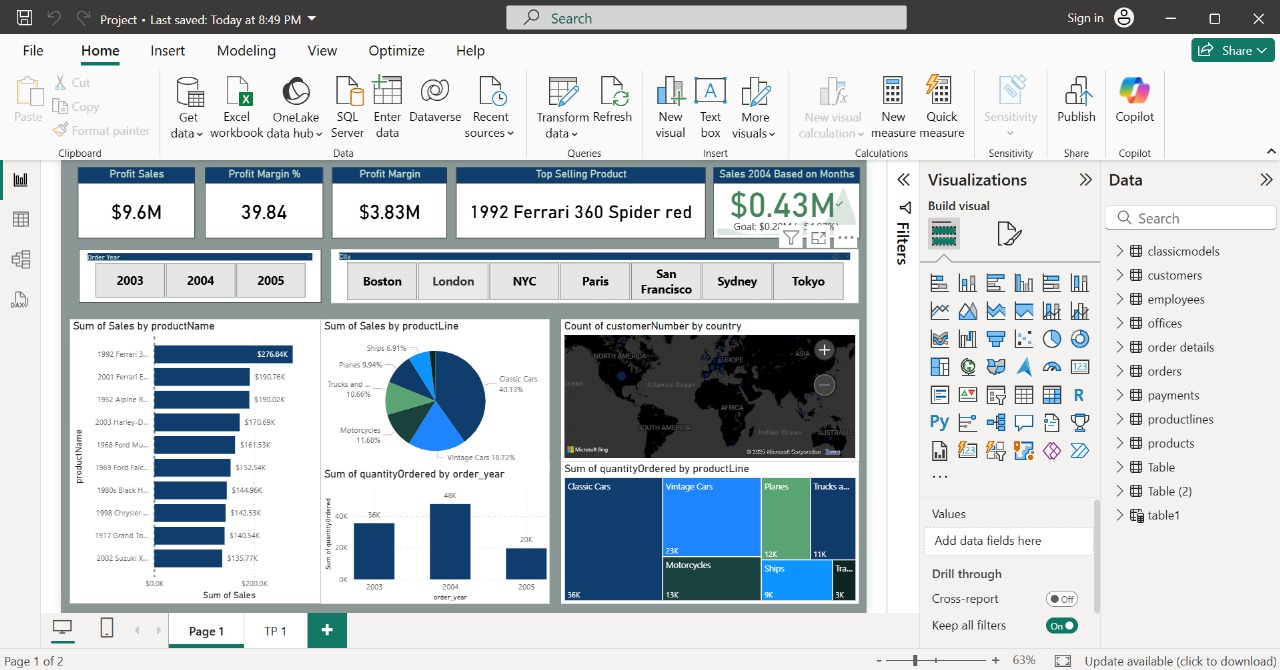

The page's visual inventory and layout, read from the dashboard file:
{"tool":"powerbi","page":{"name":"Page 1","canvas":[1280,720],"ordinal":0},"visuals":[{"type":"card","title":"Profit Margin","fields":{"Values":["order details.total_profit"]},"box":[430.7,11.3,183,113.3],"z":0},{"type":"card","title":"Top Selling Product","fields":{"Values":["order details.MostOrderedProduct"]},"box":[625.1,12.7,396.1,112.9],"z":1000},{"type":"barChart","fields":{"Category":["products.productName"],"Y":["Sum(order details.Sales)"]},"box":[15,253.3,398.3,451.7],"z":2000},{"type":"pieChart","fields":{"Category":["products.productLine"],"Y":["Sum(order details.Sales)"]},"box":[413.6,252.9,362.7,240.2],"z":3000},{"type":"slicer","fields":{"Values":["orders.order_year"]},"box":[14.3,141.6,402.4,85.9],"z":4000},{"type":"kpi","title":"Sales 2004 Based on Months","fields":{"Indicator":["orders.sales_2004"],"Goal":["orders.sales_2003"],"TrendLine":["orders.Month Name"]},"box":[1036.3,11.3,233.2,113.3],"z":5000},{"type":"map","fields":{"Size":["CountNonNull(customers.customerNumber)"],"Category":["customers.country"]},"box":[795.3,251.3,472.4,227.5],"z":6000},{"type":"treemap","fields":{"Group":["productlines.productLine"],"Values":["Sum(order details.quantityOrdered)"]},"box":[795,480,473.3,225],"z":7000},{"type":"clusteredColumnChart","fields":{"Y":["Sum(order details.quantityOrdered)"],"Category":["orders.order_year"]},"box":[413.3,480,363.3,225],"z":8000},{"type":"card","title":"Profit Margin %","fields":{"Values":["classicmodels.Profit_Margin_%"]},"box":[225.9,12.7,190.9,112.9],"z":9000},{"type":"card","title":"Profit Sales","fields":{"Values":["Sum(order details.Sales)"]},"box":[14.3,12.7,198.8,112.9],"z":10000},{"type":"slicer","fields":{"Values":["offices.city"]},"box":[431.1,141.6,838.3,84.3],"z":11000}]}

Visuals, with their boxes on the page's 1280x720 design canvas (x1, y1, x2, y2). These are canvas units, not pixel positions in the 1280x670 screenshot, which may show the page scaled, cropped or inside an application window:
"Profit Margin" card: select_region(431, 11, 614, 125)
"Top Selling Product" card: select_region(625, 13, 1021, 126)
barChart - products.productName x Sum(order details.Sales): select_region(15, 253, 413, 705)
pieChart - products.productLine x Sum(order details.Sales): select_region(414, 253, 776, 493)
slicer - orders.order_year: select_region(14, 142, 417, 228)
"Sales 2004 Based on Months" kpi: select_region(1036, 11, 1270, 125)
map - CountNonNull(customers.customerNumber) x customers.country: select_region(795, 251, 1268, 479)
treemap - productlines.productLine x Sum(order details.quantityOrdered): select_region(795, 480, 1268, 705)
clusteredColumnChart - Sum(order details.quantityOrdered) x orders.order_year: select_region(413, 480, 777, 705)
"Profit Margin %" card: select_region(226, 13, 417, 126)
"Profit Sales" card: select_region(14, 13, 213, 126)
slicer - offices.city: select_region(431, 142, 1269, 226)
